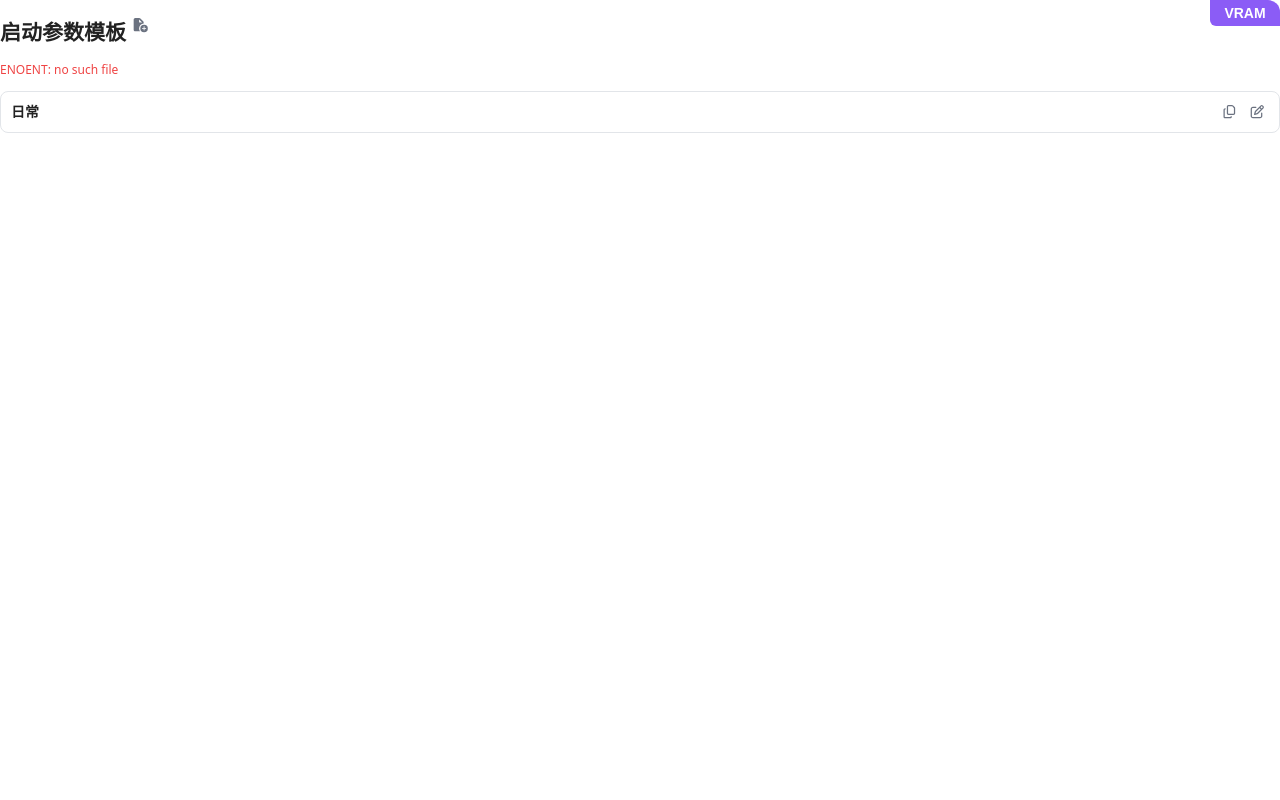
Scenario: TemplateModule › list_has_no_delete_and_edit_modal_shows_it
Click the button named "编辑" at (1257, 112), box x1=1245 y1=100 x2=1269 y2=124
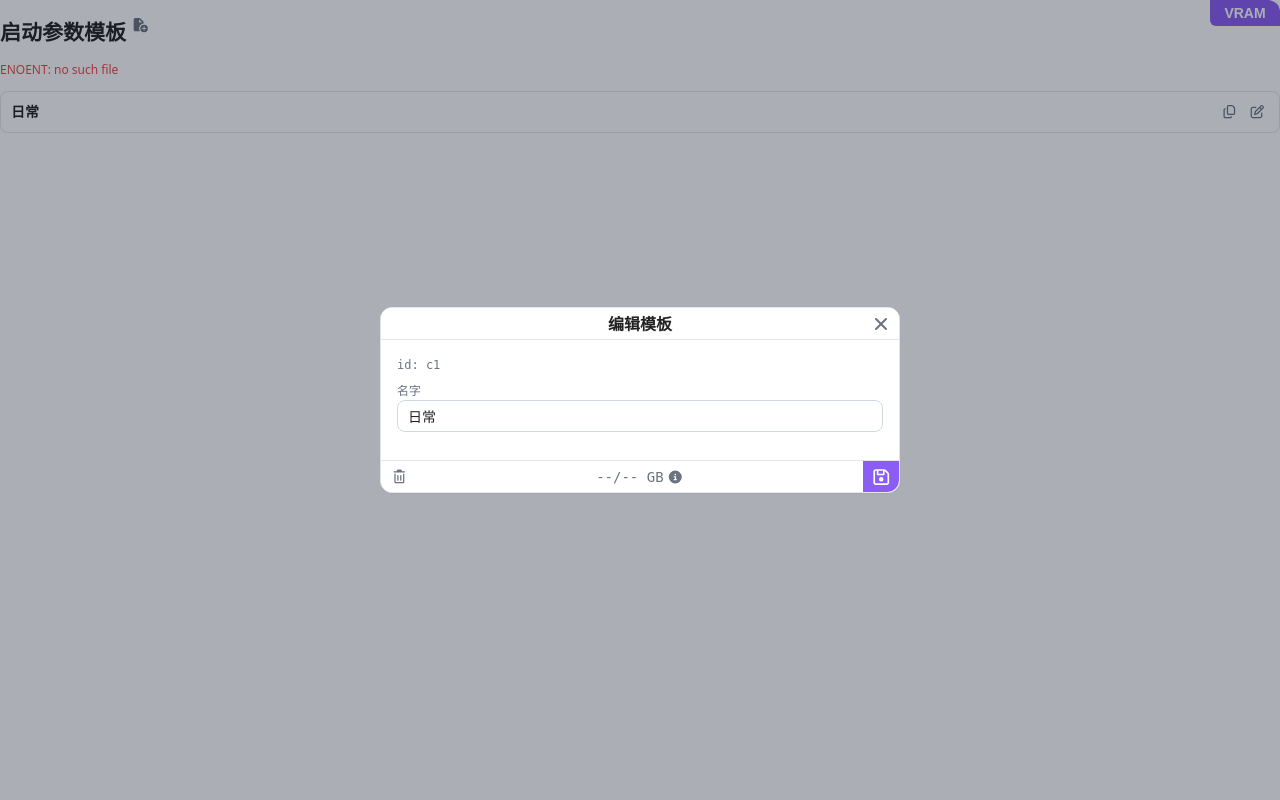
Check: the button with class "btn-delete" is shown, box x1=381 y1=461 x2=417 y2=492
